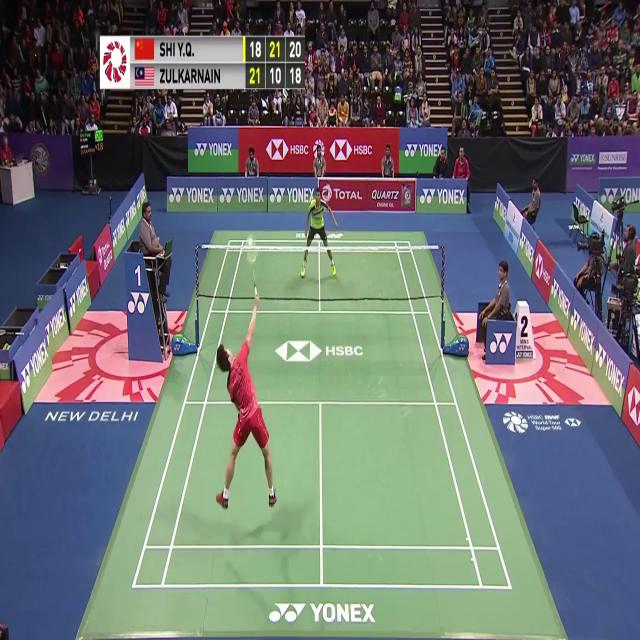Shuttlecock: (247, 236, 253, 248)
